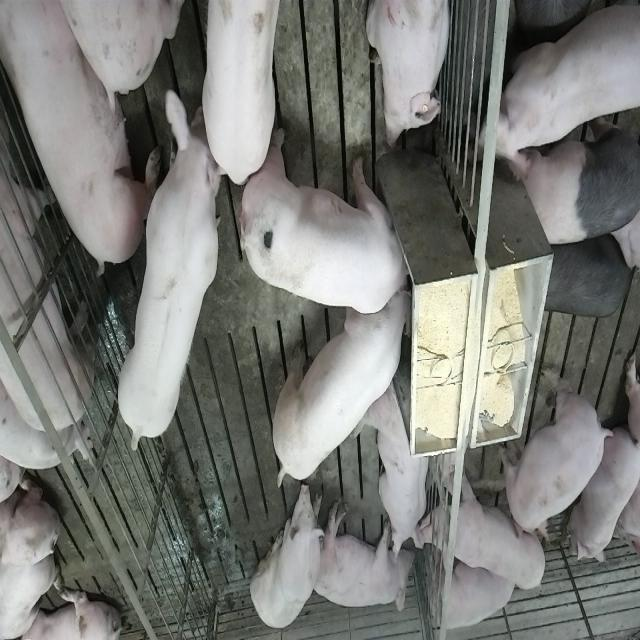Feeding: (243, 127, 420, 315), (266, 283, 411, 497)
Lateral_lying: (309, 500, 415, 616)
Sitting: (250, 481, 324, 633)
Standing: (0, 1, 98, 440), (115, 90, 222, 450), (492, 0, 638, 175), (512, 99, 638, 248), (502, 366, 612, 534), (418, 465, 548, 590), (200, 0, 287, 183)
Sternal_lying: (358, 381, 432, 563), (366, 0, 454, 150), (570, 419, 638, 567), (428, 548, 517, 634)
